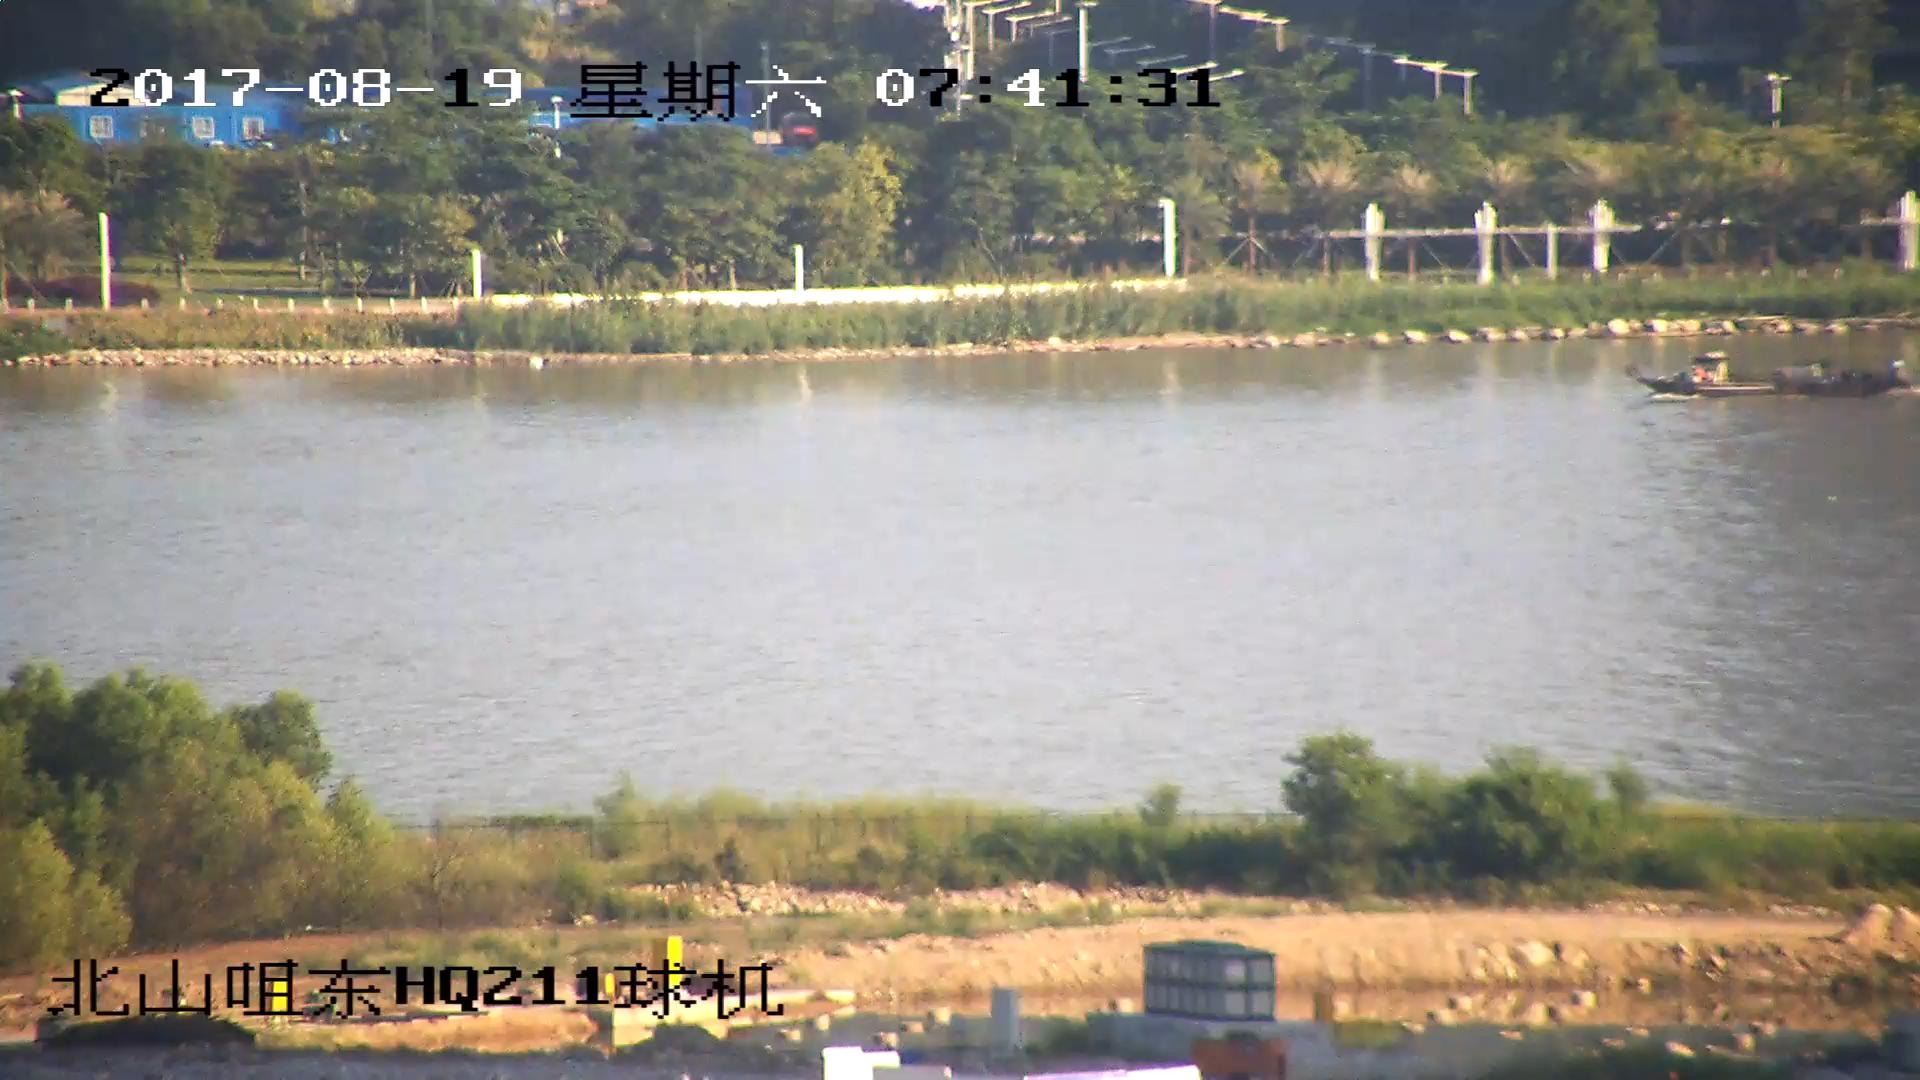fishing boat: (1633, 353, 1920, 398)
